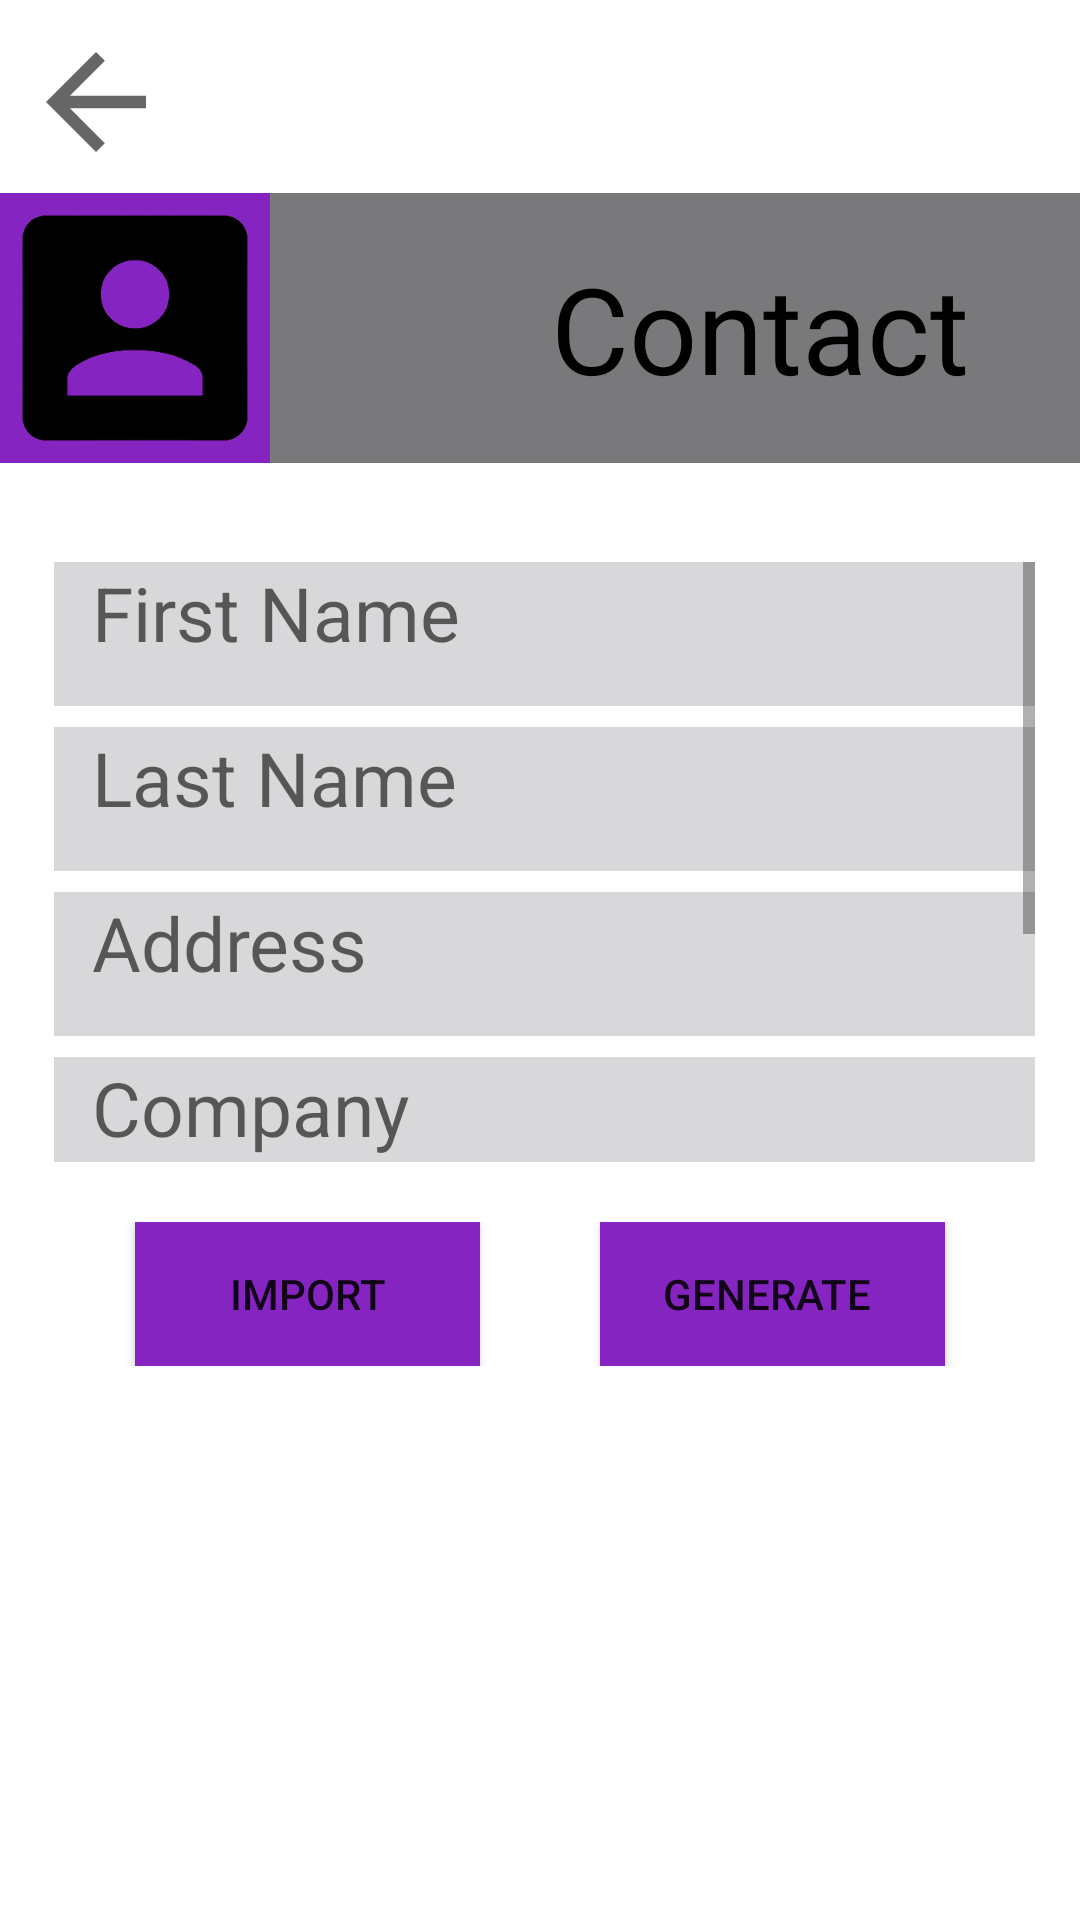

Locate icon controls on the screen. Image size 1080 x 1920, boxes as bbox=[x1, y1, x2, y2].
arrow back: bbox=[46, 52, 146, 152]
